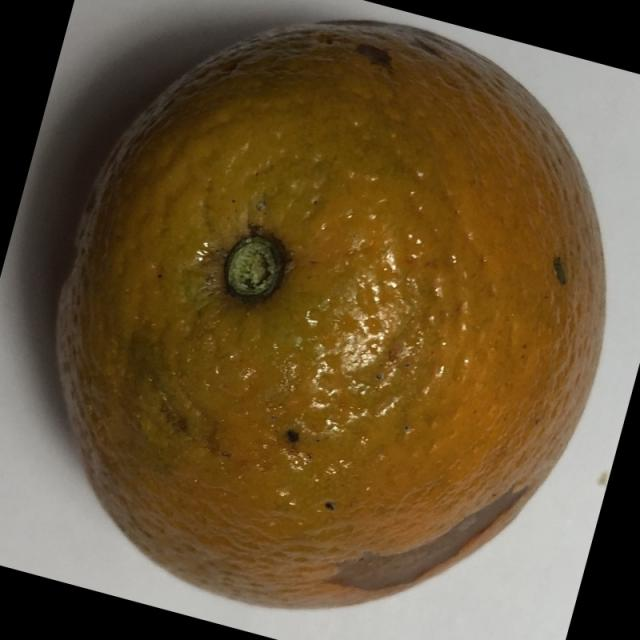canker: (34, 6, 616, 621)
